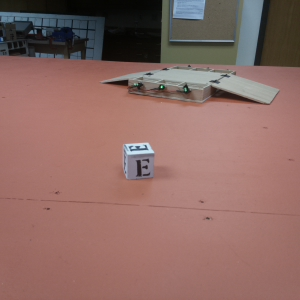blockE: (122, 139, 153, 185)
side: (128, 77, 208, 103)
slope: (216, 74, 281, 106), (101, 69, 160, 87)
